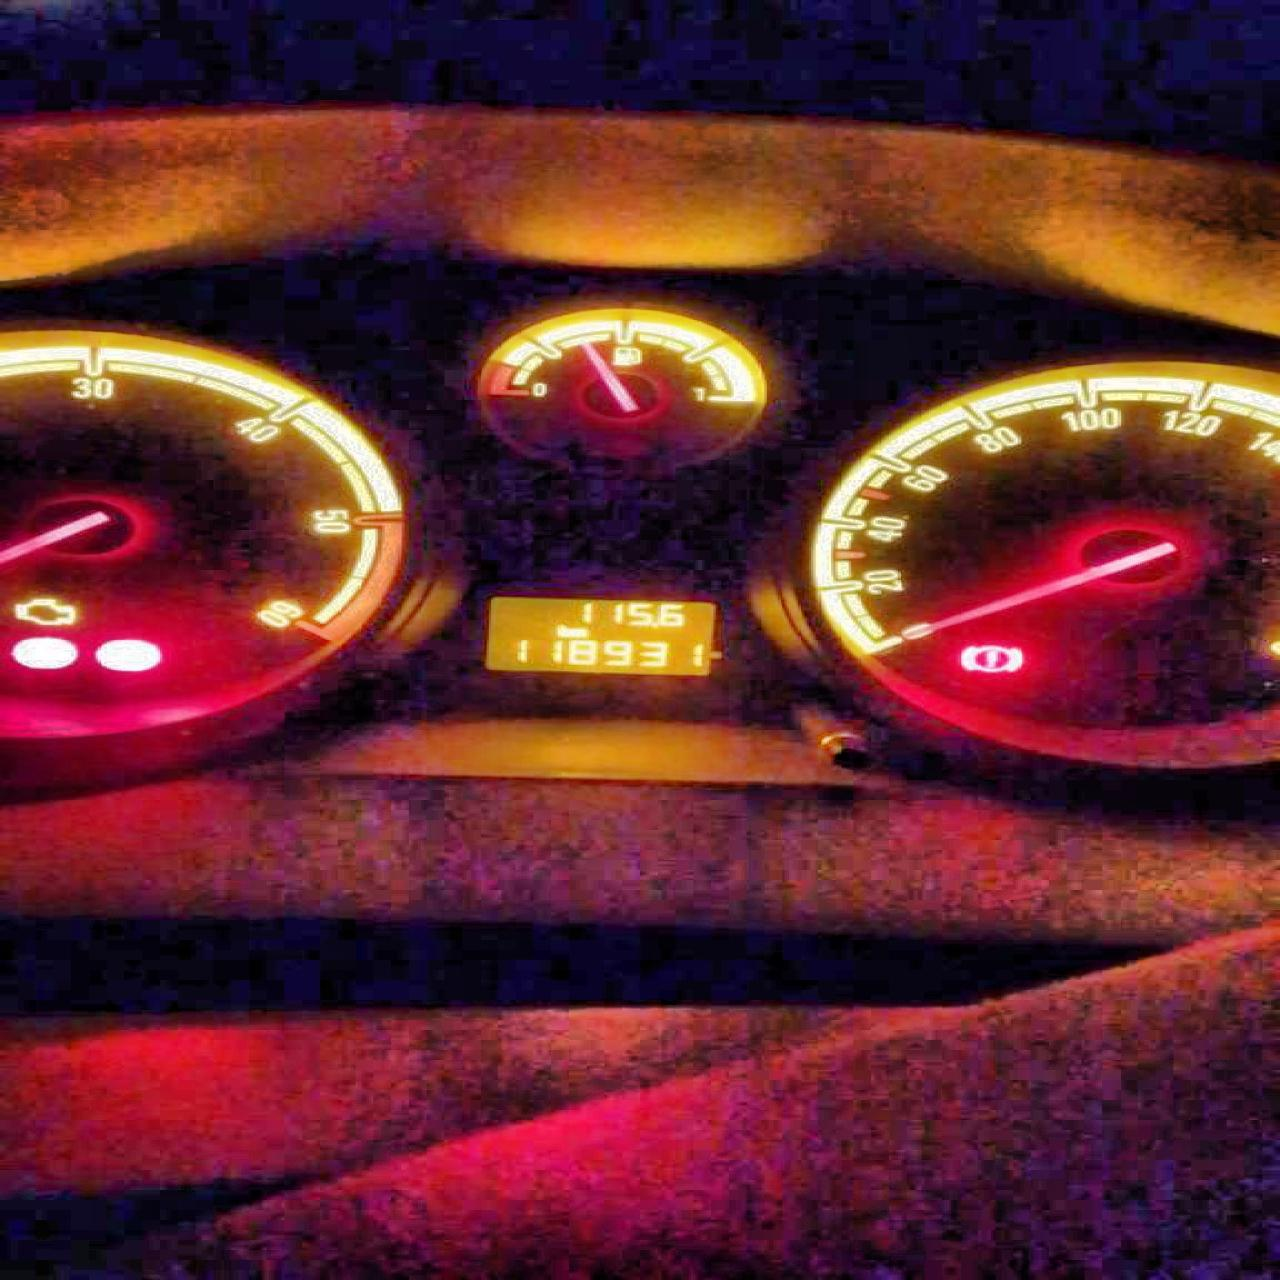-: (649, 620, 658, 629)
1: (511, 638, 531, 665), (689, 640, 702, 669), (578, 601, 593, 624), (551, 638, 561, 667), (611, 601, 620, 626)
3: (638, 639, 667, 666)
5: (627, 601, 652, 625)
6: (658, 602, 682, 626)
8: (565, 639, 595, 665)
9: (600, 639, 631, 666)
X: (568, 626, 588, 636), (556, 622, 568, 636)
odometer: (476, 592, 720, 676)
